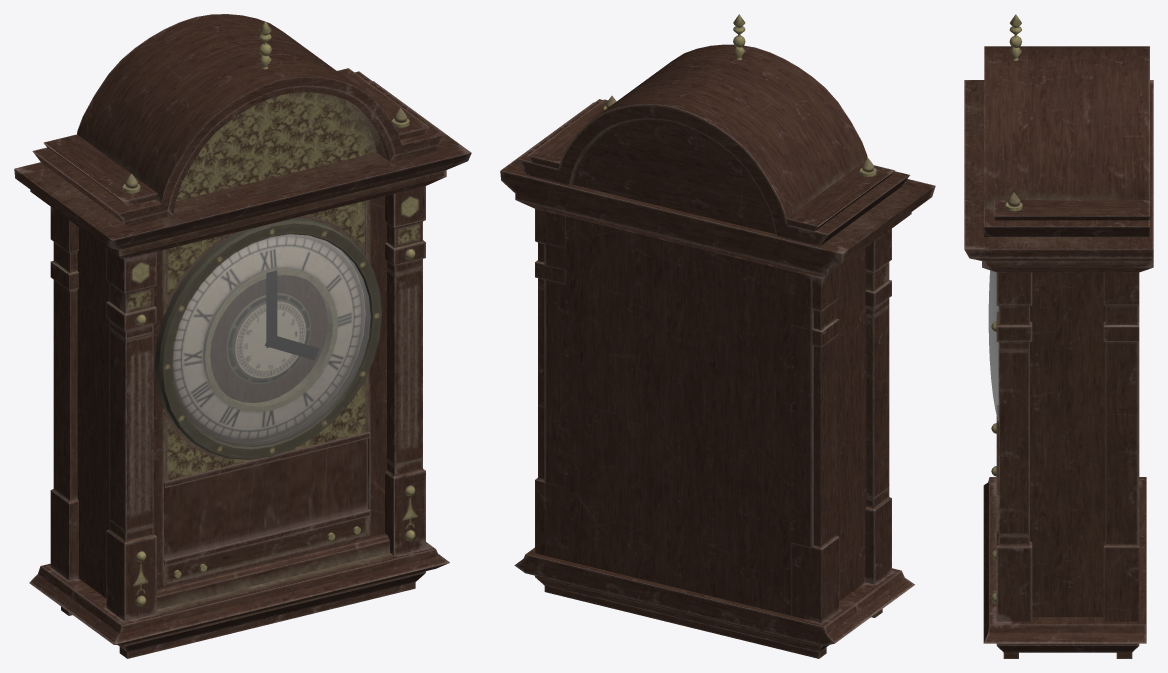
File: Clock.fbx
The picture shows the model from 3 angles, left to right: view 1: azimuth 30°, elevation 25°; view 2: azimuth 150°, elevation 25°; view 3: azimuth 270°, elevation 25°; orthographic projection. The views are drawn at different scales.
Visible parts, largest first — view 1: Cylinder003, Box001, Sphere003, Object012, Object019, Plane003, Object007, Object050, Object020, Object016, Object011, Object009 (+2 smaller); view 2: Box001, Cylinder003, Object016, Plane003, Object019, Object007; view 3: Cylinder003, Box001, Object016, Object020, Plane003, Object019, Sphere003, Cone004, Object007.
Part boxes in pixels (x1,y1,x2,y2): Cylinder003: [32, 14, 444, 226]; Box001: [77, 196, 386, 597]; Sphere003: [172, 234, 370, 447]; Object012: [155, 218, 381, 459]; Object019: [29, 533, 449, 658]; Plane003: [14, 81, 471, 259]; Object007: [106, 247, 156, 621]; Object050: [164, 438, 367, 558]; Object020: [385, 186, 425, 555]; Object016: [50, 207, 78, 580]; Object011: [203, 268, 337, 411]; Object009: [164, 432, 370, 565]; Box001: [544, 212, 866, 615]; Cylinder003: [517, 44, 909, 246]; Object016: [535, 209, 839, 622]; Plane003: [500, 102, 935, 278]; Object019: [514, 547, 914, 658]; Object007: [865, 228, 891, 584]; Cylinder003: [984, 46, 1149, 236]; Box001: [1030, 272, 1139, 616]; Object016: [1103, 272, 1139, 621]; Object020: [991, 272, 1032, 621]; Plane003: [964, 80, 1153, 272]; Object019: [983, 477, 1146, 658]; Sphere003: [988, 270, 998, 421]; Cone004: [1009, 14, 1021, 60]; Object007: [991, 406, 998, 494].
Size of the model in its own units: 561 by 892 by 266.
Materials: 3 (1 with a texture image).
